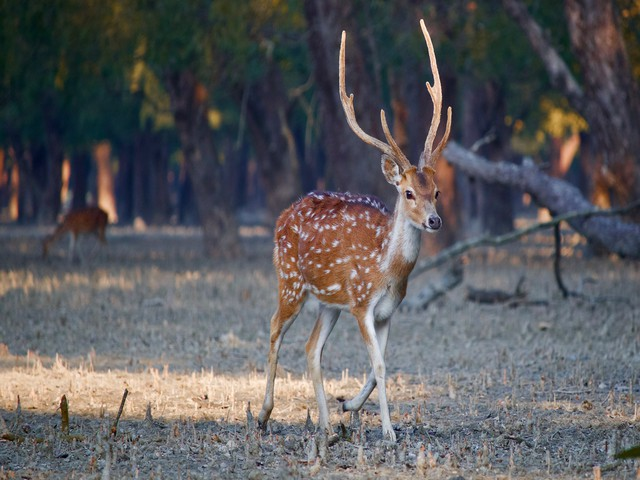deer: (255, 18, 450, 446)
